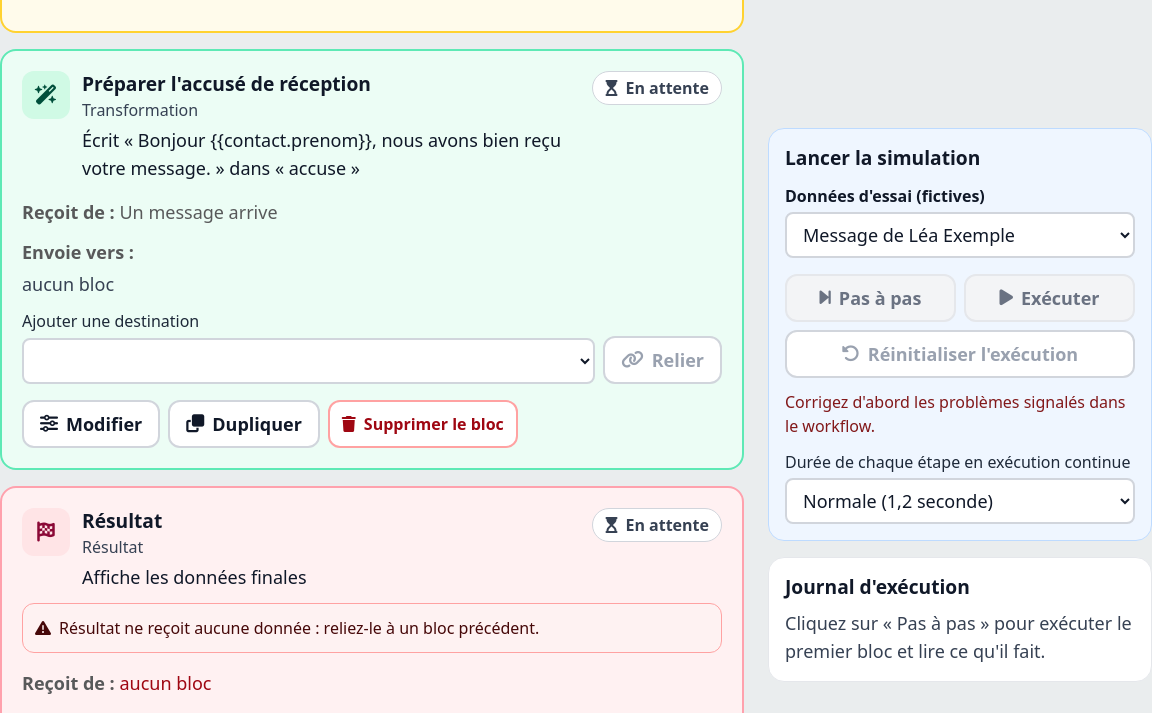
Test: lecteur de laboratoire › se termine au clavier : relier, exécuter pas à pas, vérifier
(page scrolled)
Step 1. Select "Résultat" in the dropdown with id "relier-accuse-sortie" → (309, 361), box [22, 338, 595, 384]
Step 2. Click the button with test id "relier-accuse-sortie" → click(663, 360), box [603, 336, 722, 384]
(page scrolled)
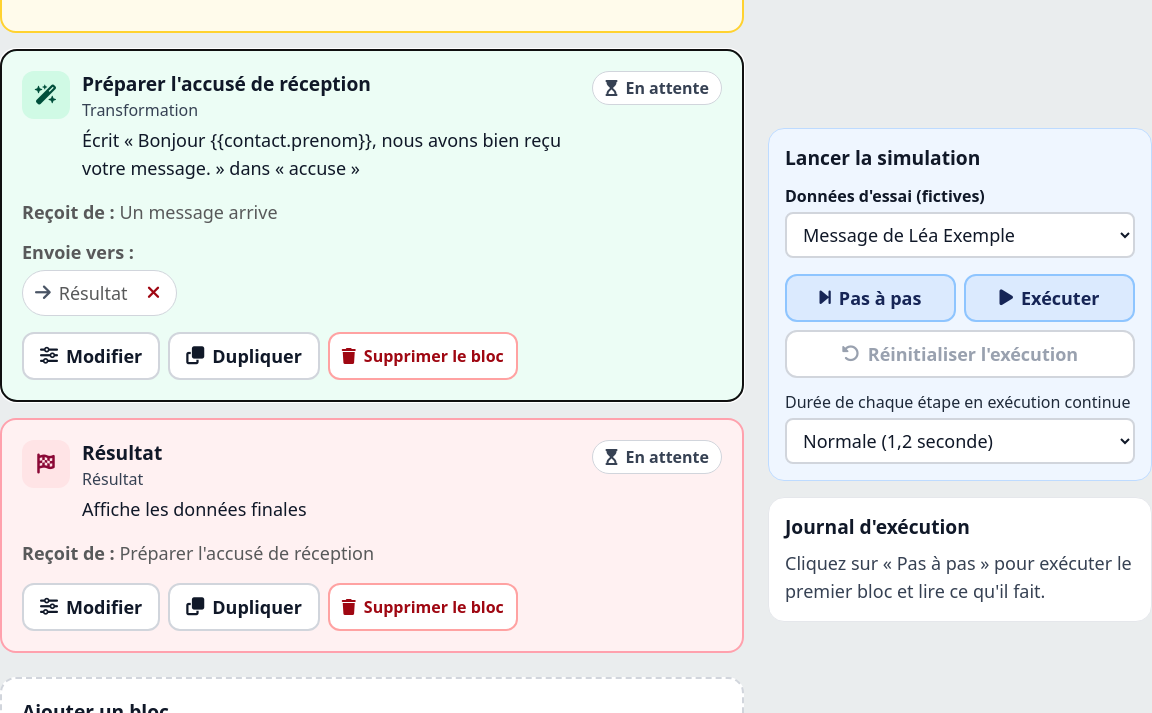
Result: the button with test id "pas-a-pas" is enabled
Step 3. Click the button with test id "pas-a-pas" → click(870, 298), box [785, 274, 956, 322]
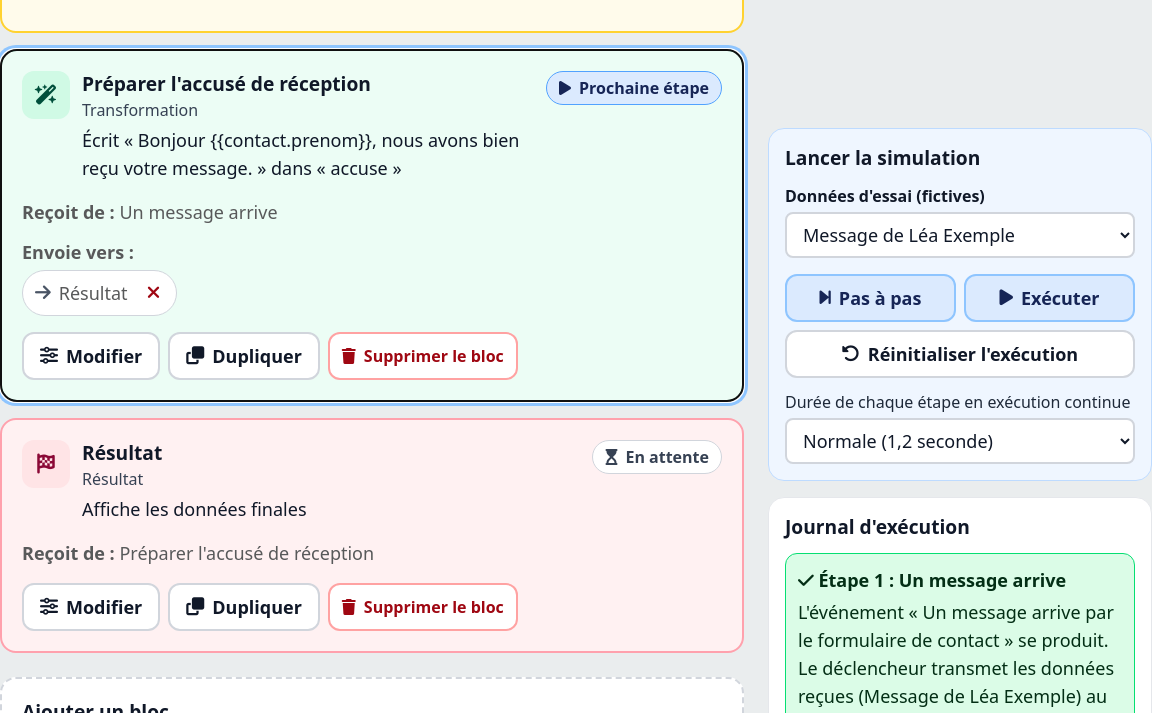
Result: the element with test id "etat-accuse" reads "Prochaine étape" at [579, 77, 709, 99]
Step 4. Click the button with test id "pas-a-pas" → click(870, 298), box [785, 274, 956, 322]
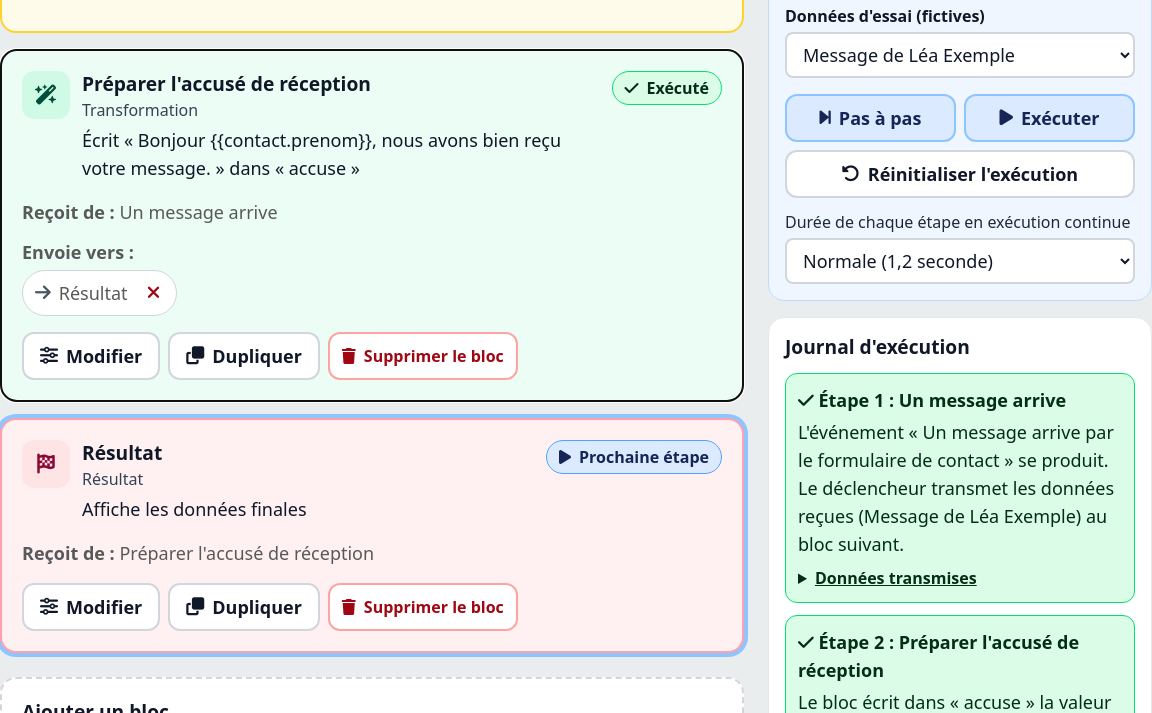
Step 5. Click the button with test id "pas-a-pas" → click(870, 118), box [785, 94, 956, 142]
(page scrolled)
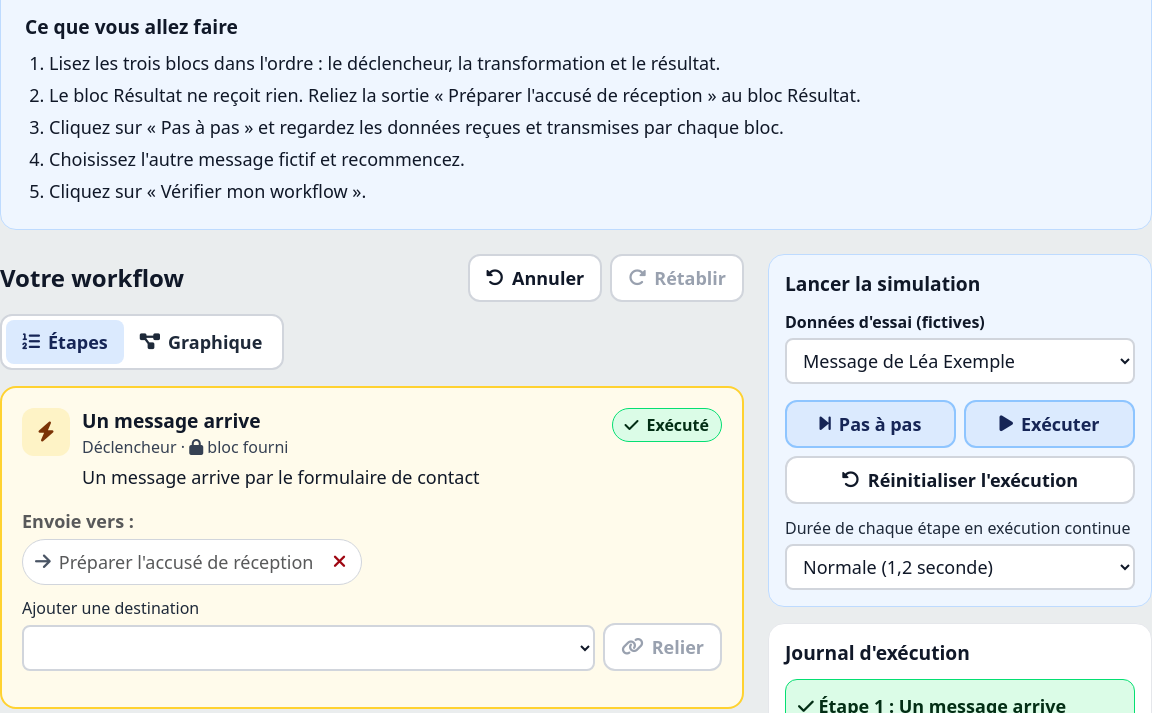
Step 6. Select "Message de Karim Exemple" in the dropdown with test id "jeu-donnees" → (960, 361), box [785, 338, 1135, 384]
(page scrolled)
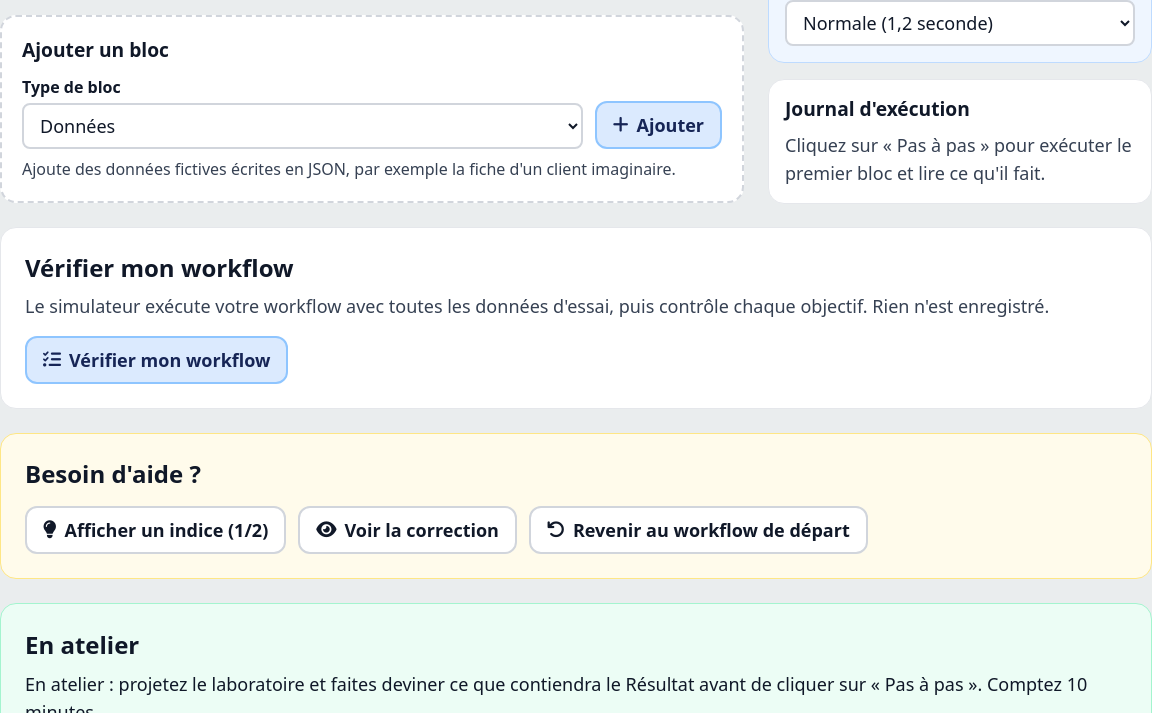
Step 7. Click the button with test id "verifier" → click(157, 360), box [25, 336, 288, 384]
(page scrolled)
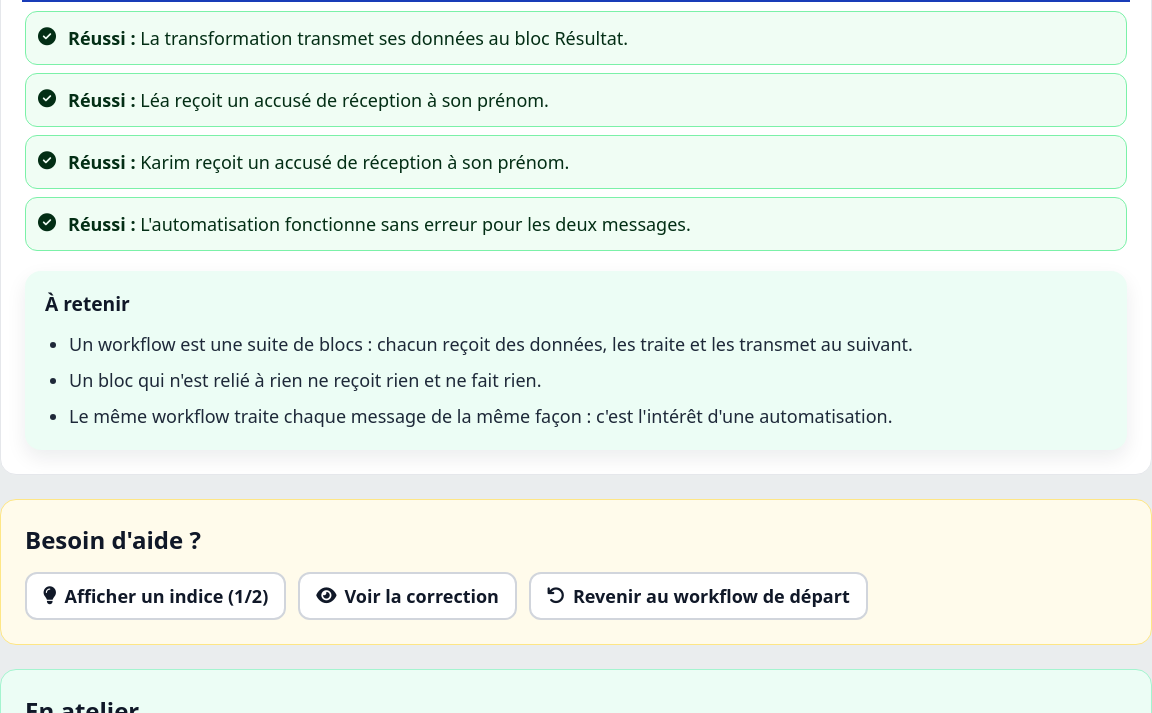
Result: the element with test id "a-retenir" shows "suite de blocs" at [69, 332, 913, 356]
